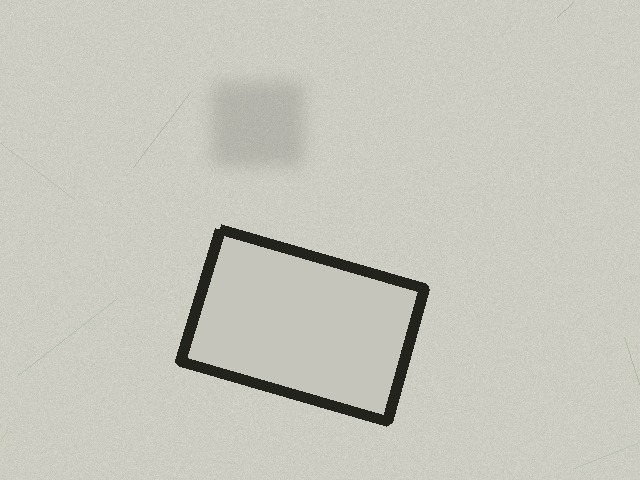parking_area: (180, 229, 424, 421)
